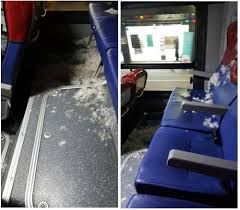seat: (152, 107, 236, 200)
